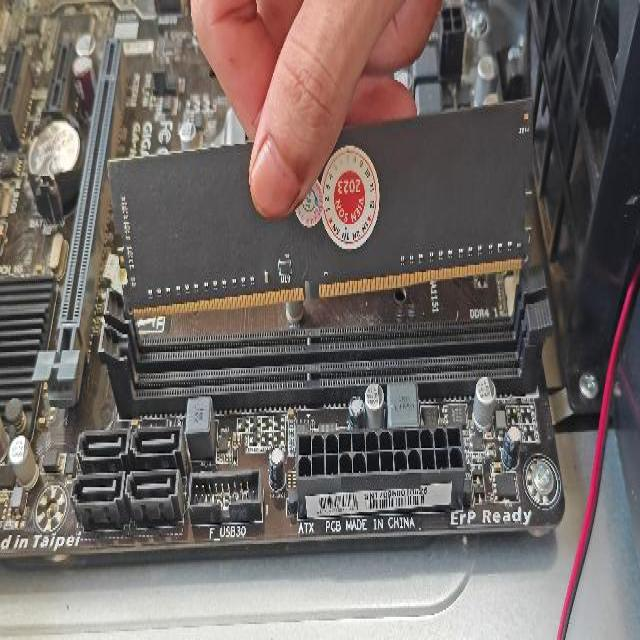Mainboard: (0, 0, 566, 558)
RAM: (106, 97, 534, 321)
